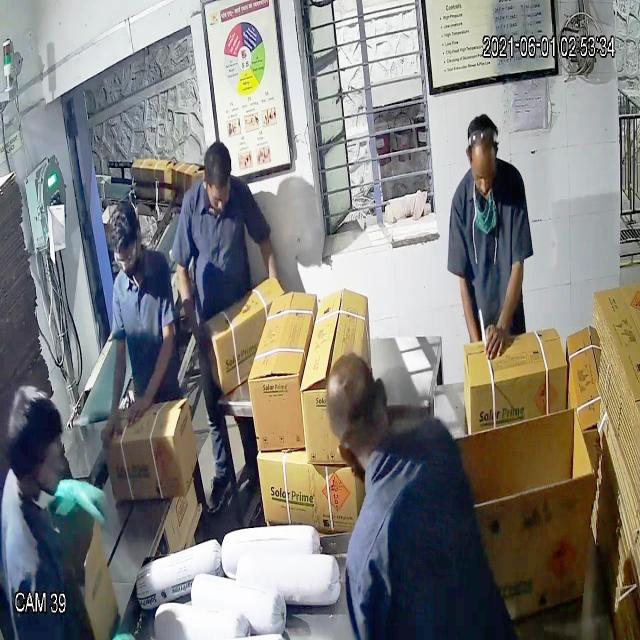glasses: (110, 236, 142, 276)
